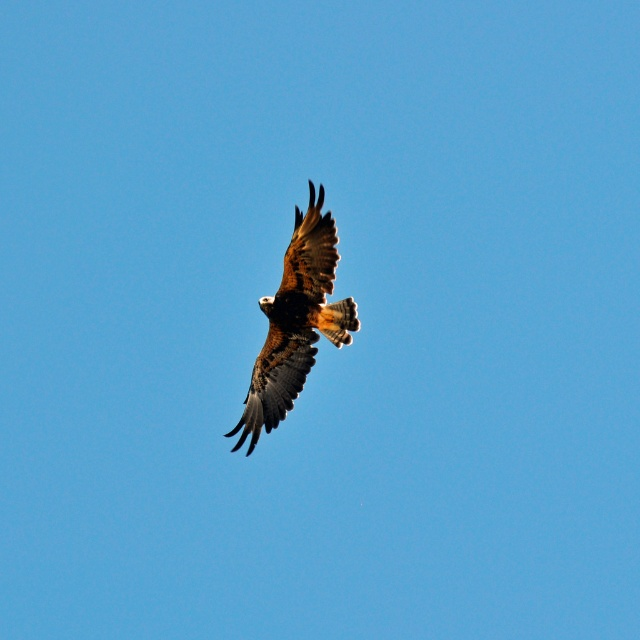Eagle: (219, 176, 362, 460)
